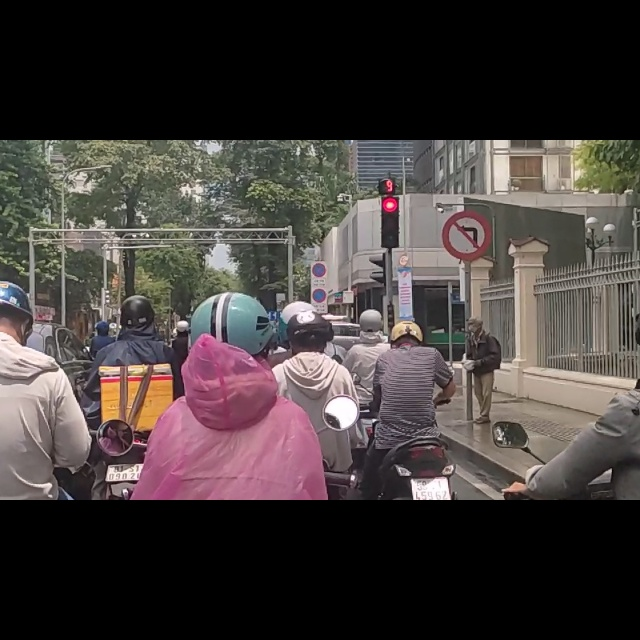bien_cam: (440, 119, 491, 213), (311, 217, 326, 245), (312, 262, 327, 290)
